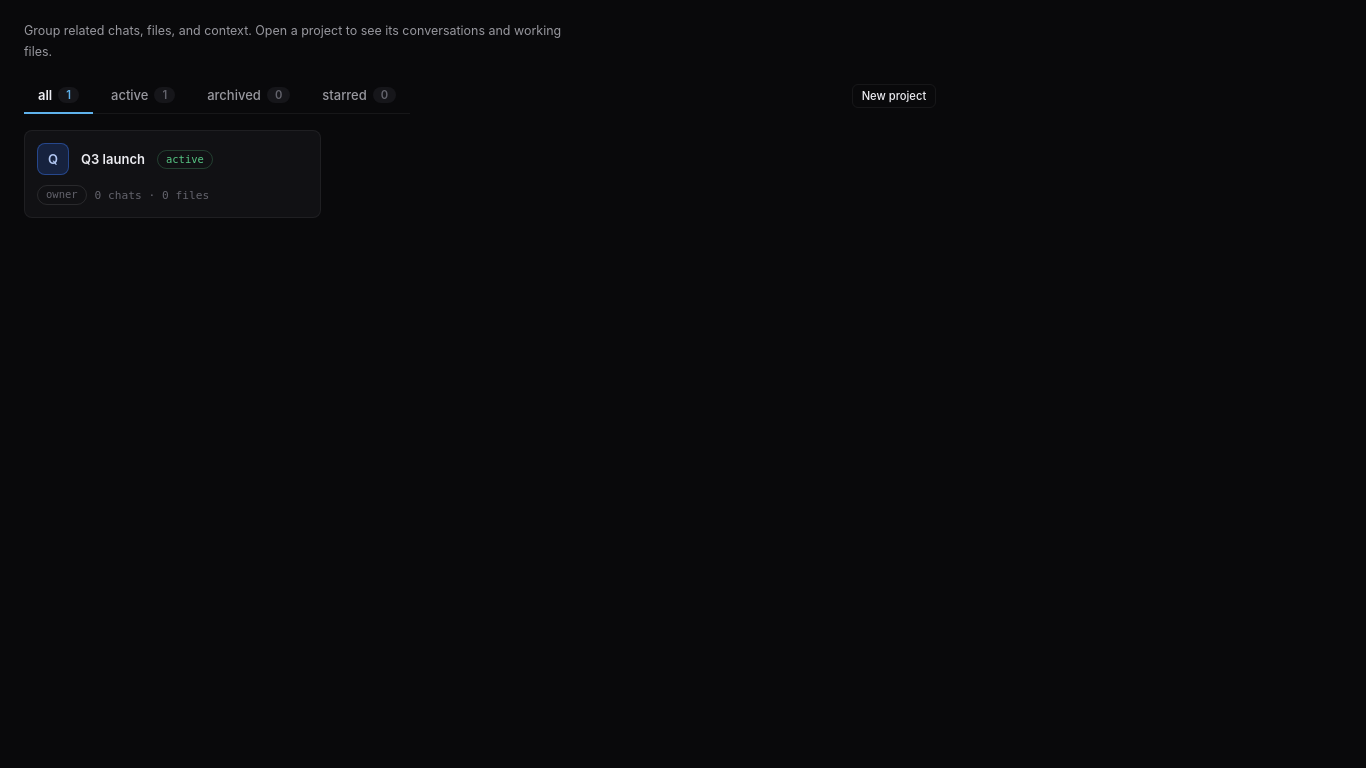
Test: ProjectsRoute detail pane › renders the Files section empty state when the project has no files (PRD-07 FR-4.11)
The image size is (1366, 768).
Click the button with test id "project-card". click: (53, 159)
box: x1=24 y1=130 x2=321 y2=218
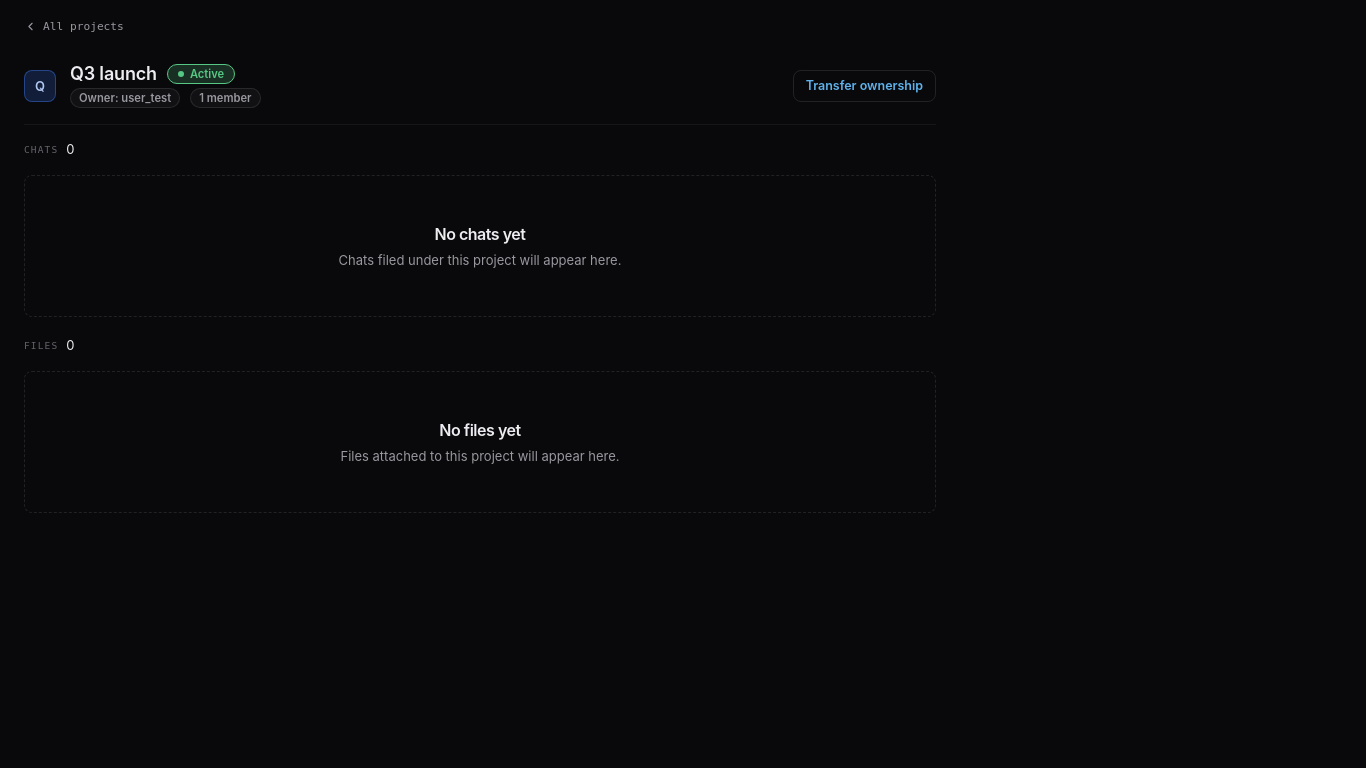
Check: the element with test id "project-detail-view" is shown
Check: the heading "No files yet" is shown, box x1=439 y1=420 x2=521 y2=440
